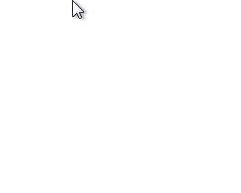cursor: (69, 1, 86, 22)
